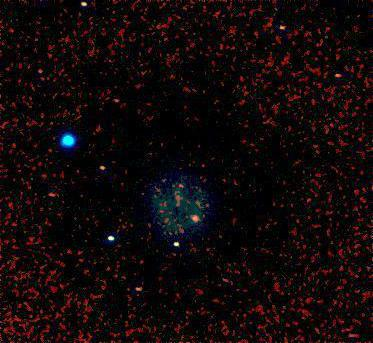star: (40, 182, 70, 212)
